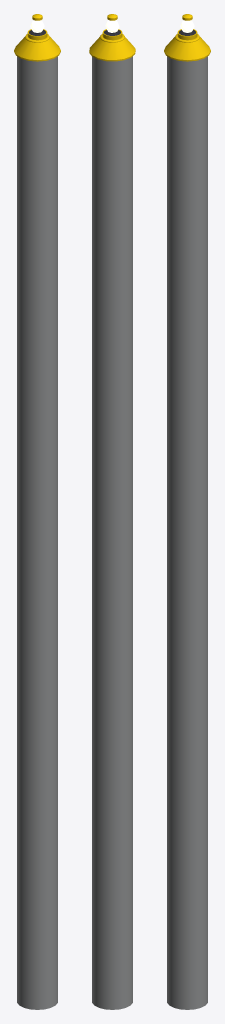
File: RunwayLight01-WarmWhite_LOD0.gltf
3 renders of one model, left to right at view 1: azimuth 90°, elevation 25°; view 2: azimuth 210°, elevation 25°; view 3: azimuth 270°, elevation 25°, orthographic.
Parts seen in each view (by area): view 1: Light; view 2: Light; view 3: Light.
Part boxes in pixels (left/top/right/bottom): Light: left=14, top=14, right=60, bottom=1009; Light: left=89, top=14, right=135, bottom=1009; Light: left=164, top=14, right=210, bottom=1009.
Size of what is drawn, in the model's own units: 0.45 by 10.44 by 0.45.
